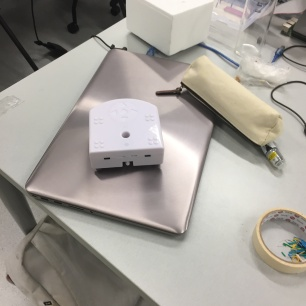thymio: (84, 94, 172, 178)
